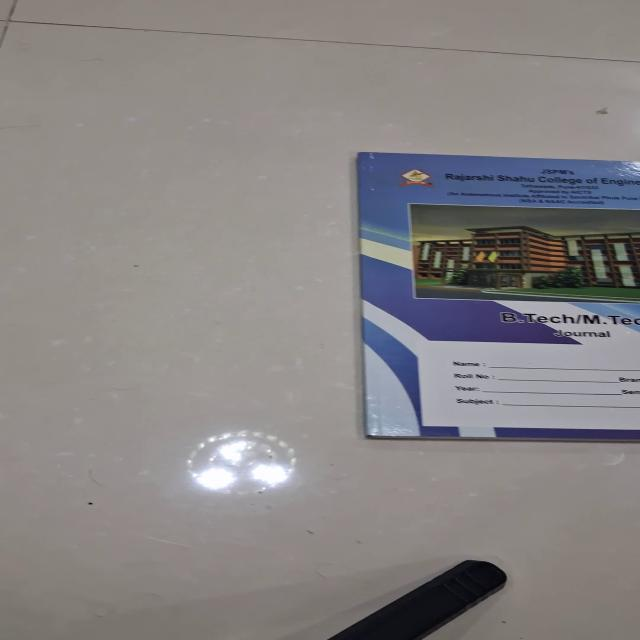paper: (356, 151, 639, 441)
